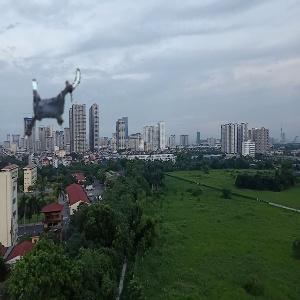drone: (13, 61, 92, 140)
